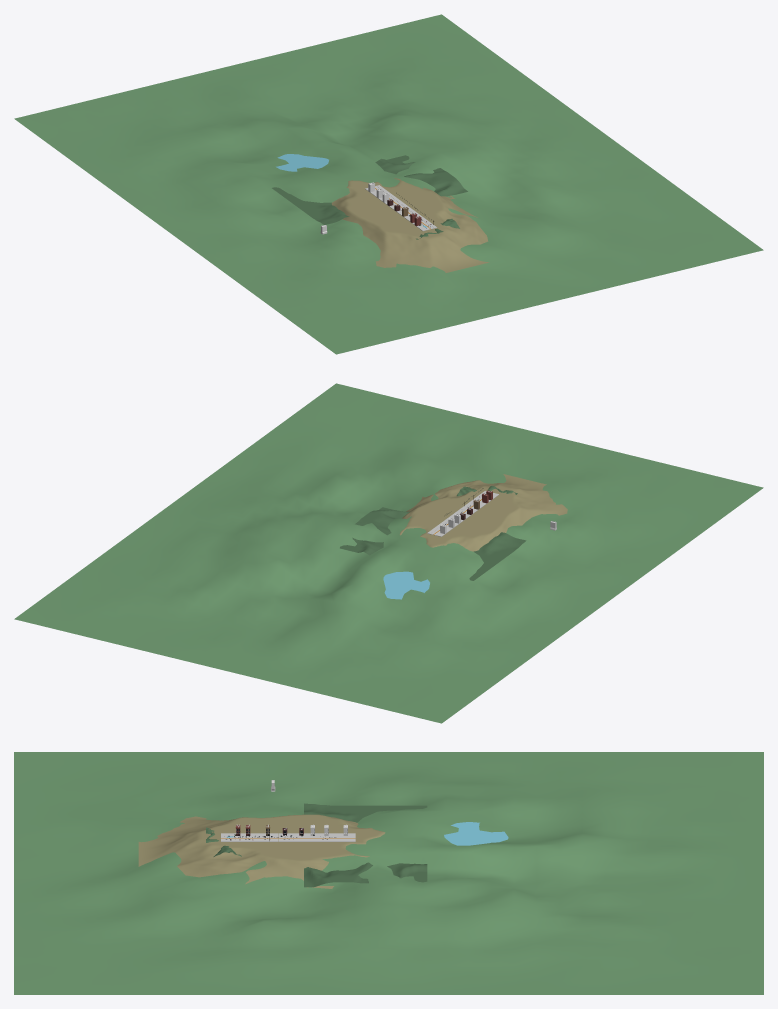
Rendered from city_Fired.fbx.
3 renders of one model, top to bottom at view 1: azimuth 30°, elevation 25°; view 2: azimuth 150°, elevation 25°; view 3: azimuth 270°, elevation 25°, orthographic. The views are drawn at different scales.
Parts seen in each view (by area): view 1: Landscape_1, Landscape, Landscape_4, Disc; view 2: Landscape_1, Landscape, Landscape_4, Disc; view 3: Landscape_1, Landscape, Landscape_4, Disc.
Part boxes in pixels (x1,y1,x2,y2): Landscape_1: (14, 14, 763, 354); Landscape: (331, 178, 489, 272); Landscape_4: (272, 155, 467, 224); Disc: (276, 154, 328, 171); Landscape_1: (14, 383, 763, 723); Landscape: (399, 474, 567, 551); Landscape_4: (340, 507, 526, 580); Disc: (383, 571, 429, 599); Landscape_1: (14, 752, 763, 994); Landscape: (138, 814, 385, 888); Landscape_4: (304, 803, 427, 887); Disc: (444, 822, 508, 845).
Size of the model in its own units: 26847 by 1425 by 35025.
